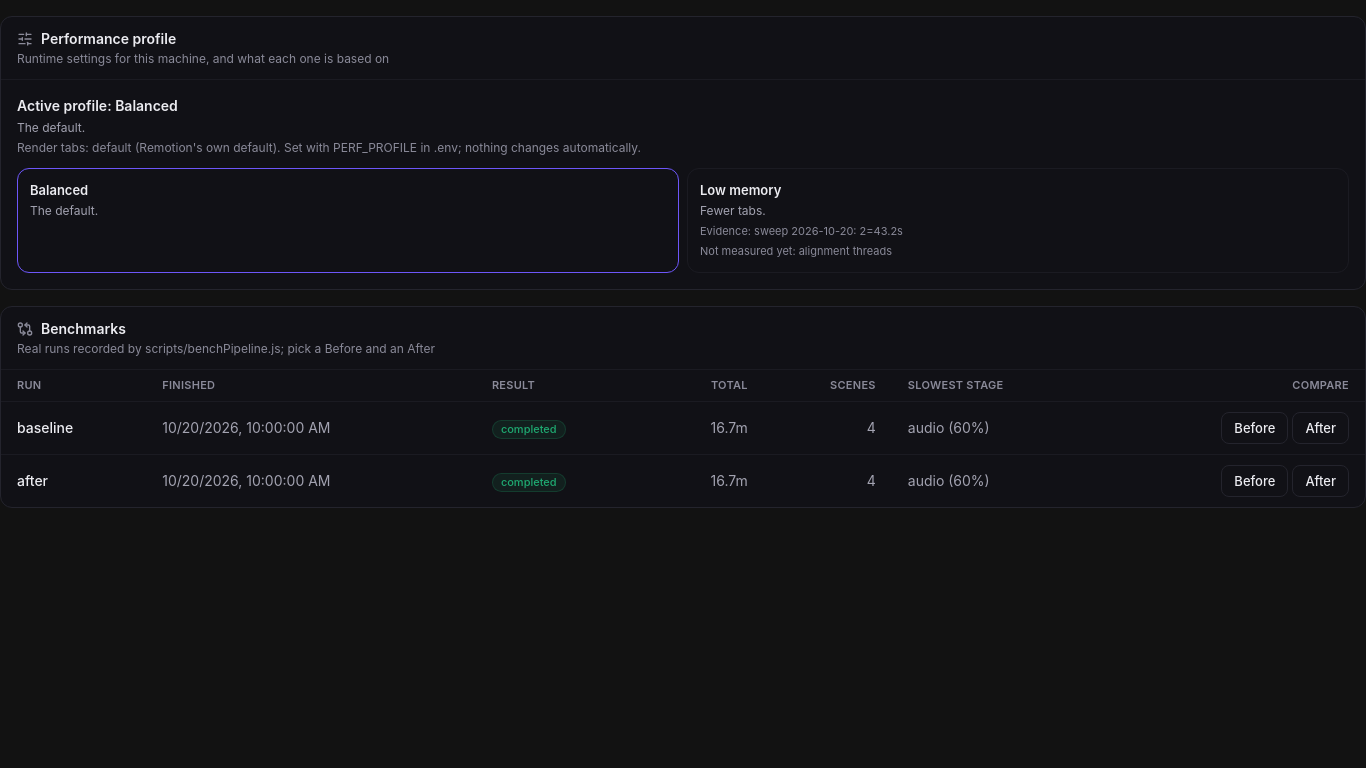
Scenario: PerformancePanel - benchmarks › compares two picked runs, with the caveat when the workloads differ
Check: the text "baseline" is shown, box [17,419,73,436]
Click the button with aria-label "Use baseline as before" at [1255, 428], box [1221,412,1288,444]
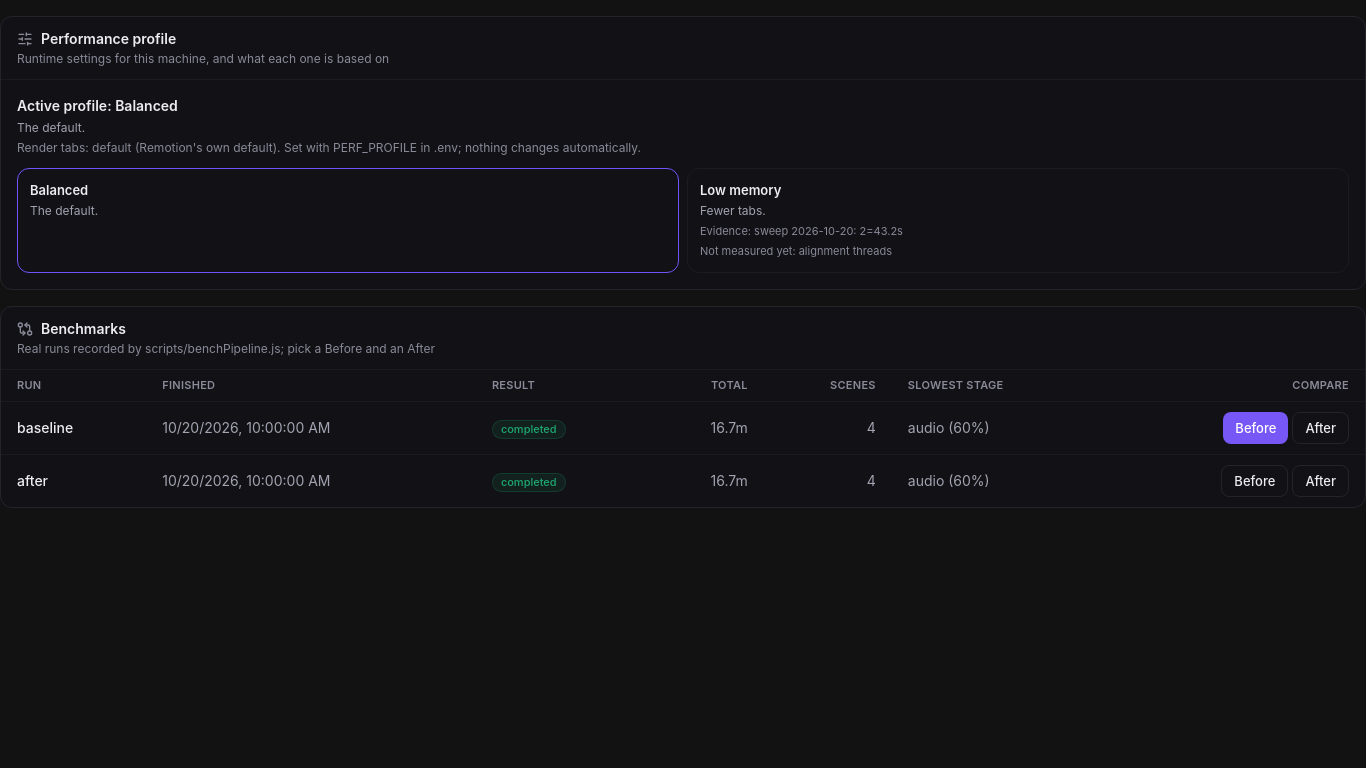
Click the button with aria-label "Use after as after" at [1321, 481], box [1292,465,1349,497]
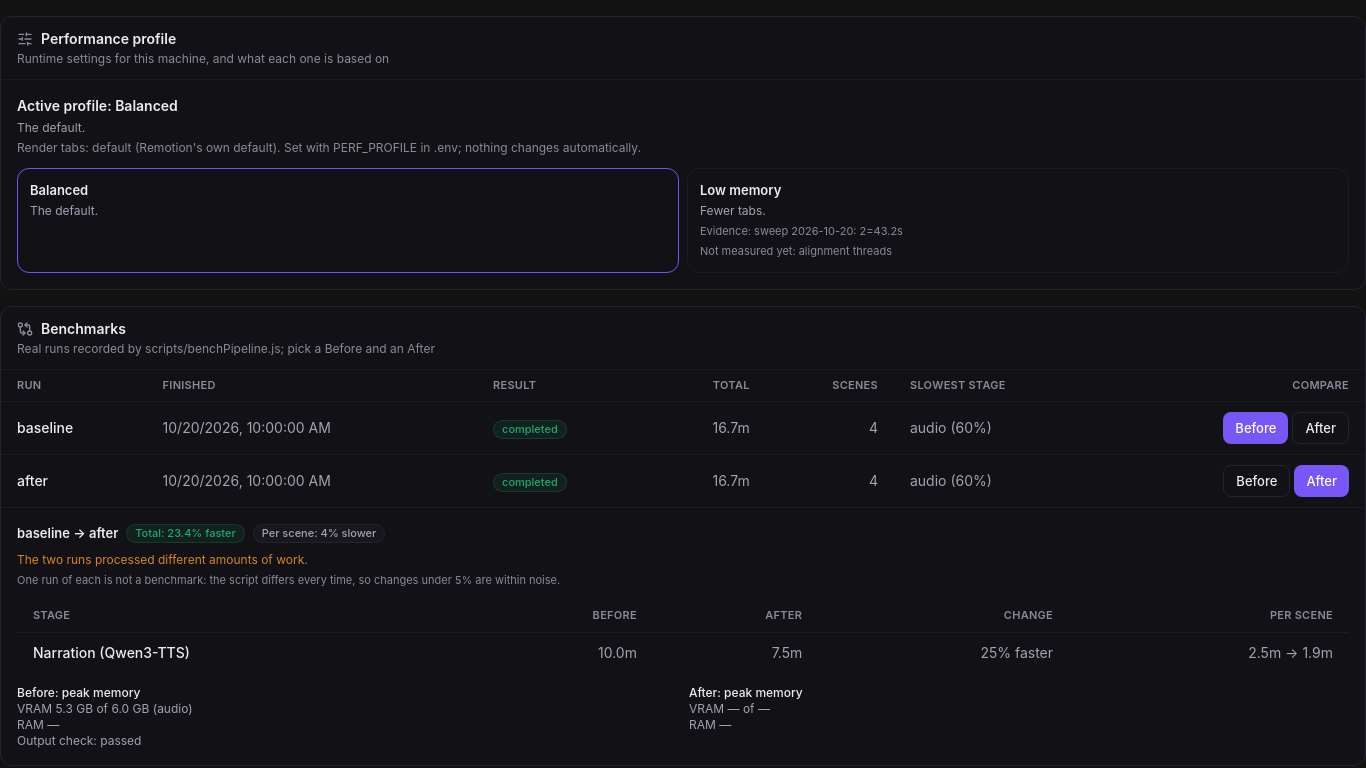
Check: the element with test id "benchmark-compare" shows "Total: 23.4% faster", box [1,507,1365,765]
Check: the element with test id "benchmark-compare" shows "Per scene: 4% slower", box [1,507,1365,765]
Check: the text with test id "compare-caveat" shows "different amounts of work", box [17,552,308,567]
